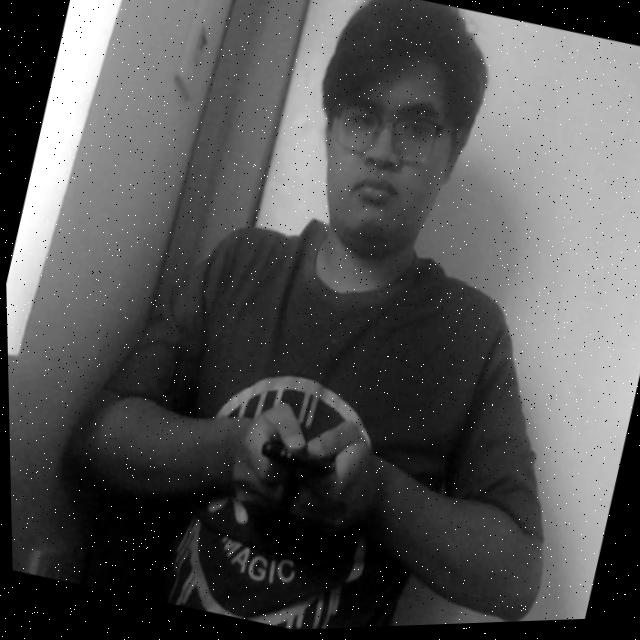phone: (243, 405, 357, 517)
